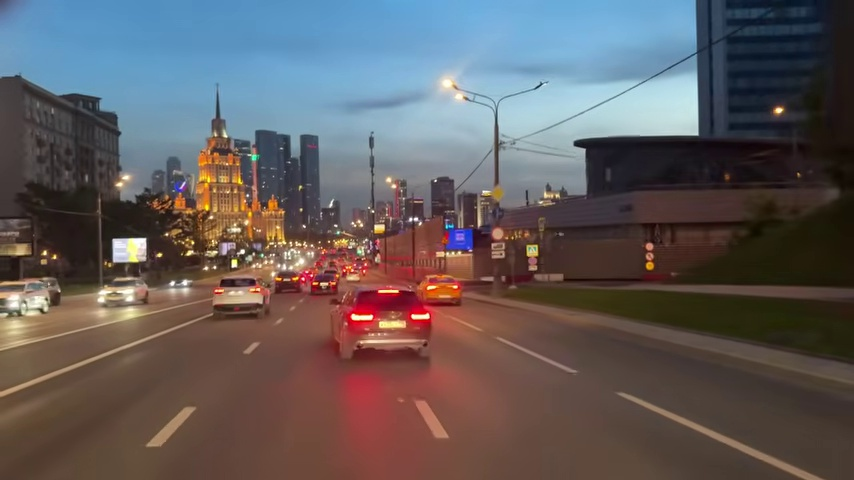acesa: (437, 75, 462, 101), (439, 76, 457, 94), (114, 173, 132, 190), (385, 176, 399, 190)
apagada: (530, 81, 546, 95)
